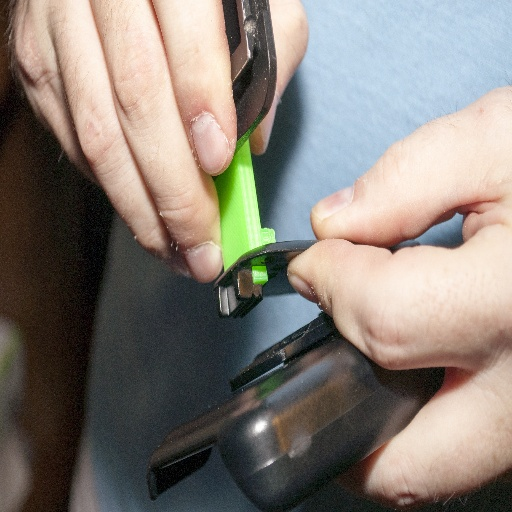hand: (285, 83, 511, 510), (8, 0, 309, 287)
